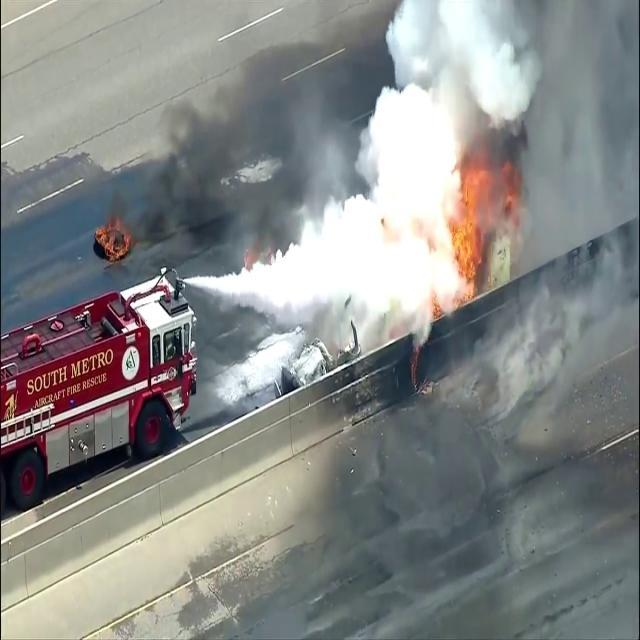Fire: (446, 162, 498, 292)
Smoke: (102, 8, 378, 274), (388, 1, 604, 162)
